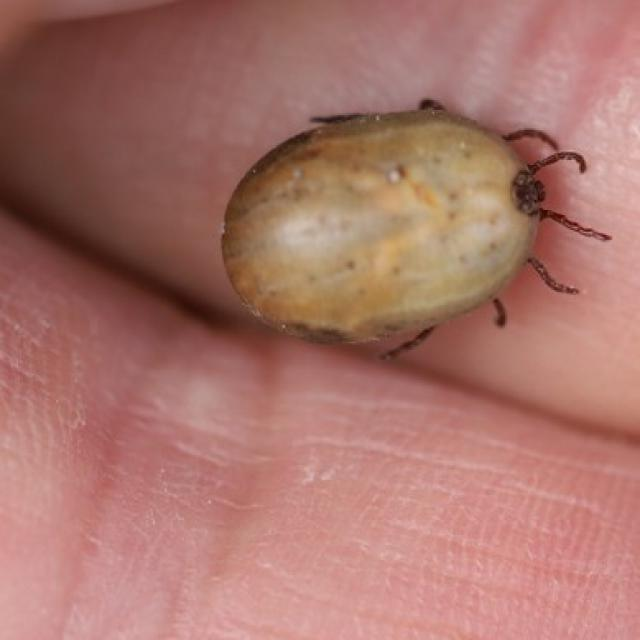Dermacentor Reticulatus-F-Fed: (220, 98, 612, 360)
